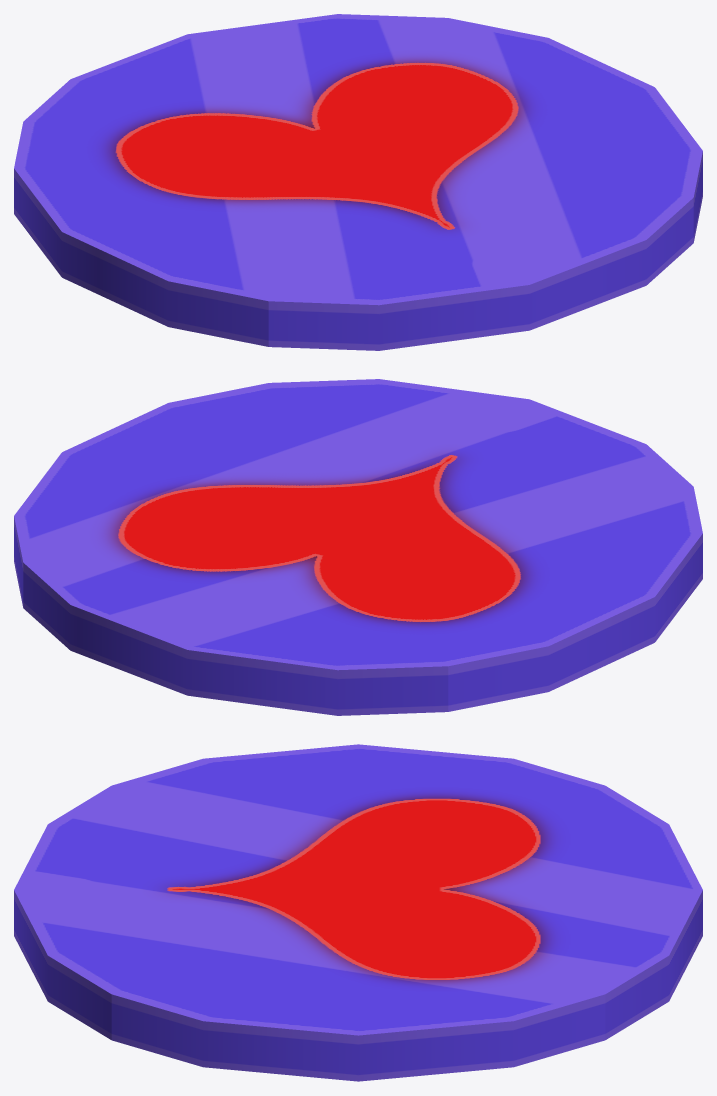
The model's file is Disc.FBX.
3 renders of one model, top to bottom at view 1: azimuth 30°, elevation 25°; view 2: azimuth 150°, elevation 25°; view 3: azimuth 270°, elevation 25°, orthographic.
Visible parts, largest first — view 1: Box001; view 2: Box001; view 3: Box001.
Part boxes in pixels (x1,y1,x2,y2): Box001: (14, 14, 702, 350); Box001: (14, 379, 702, 715); Box001: (14, 744, 702, 1081).
Bounding box in the file's own units: 37.97 × 2.8 × 37.97.
1 material, 1 textured.
